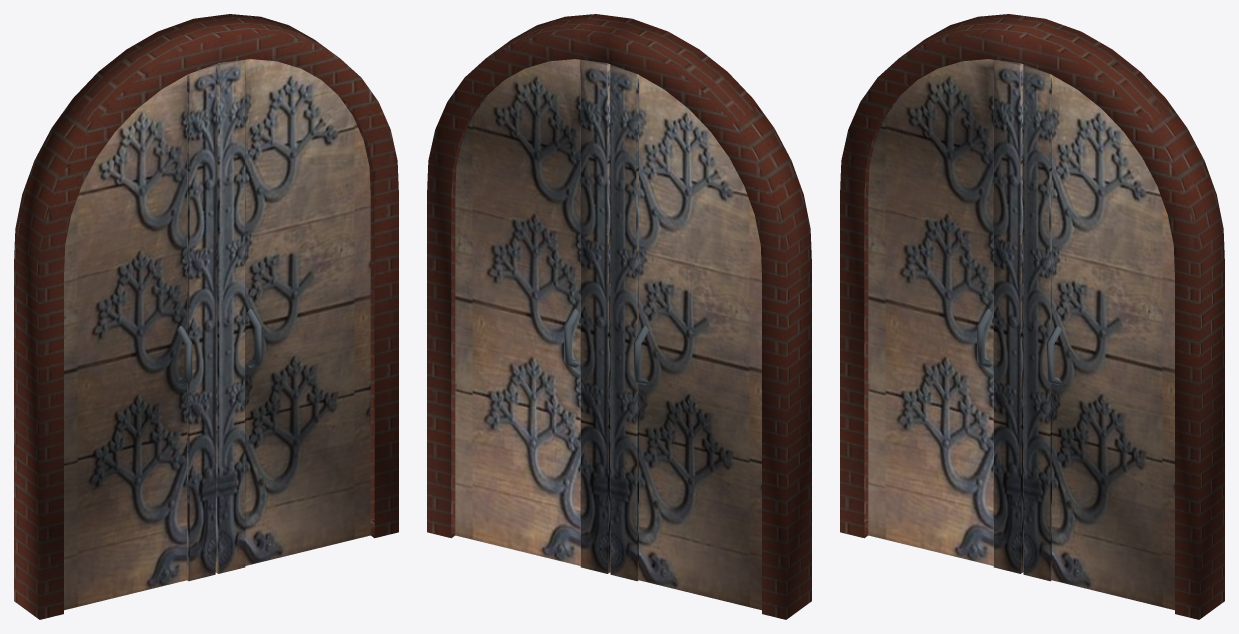
File: door.obj
3 renders of one model, left to right at view 1: azimuth 30°, elevation 25°; view 2: azimuth 150°, elevation 25°; view 3: azimuth 330°, elevation 25°, orthographic.
Parts seen in each view (by area): view 1: l_1, r_1, br; view 2: l_1, r_1, br; view 3: r_1, l_1, br.
Boxes of the visible parts, bbox=[...] form: l_1: bbox=[215, 59, 370, 573]; r_1: bbox=[64, 64, 215, 610]; br: bbox=[14, 14, 398, 619]; l_1: bbox=[455, 59, 610, 573]; r_1: bbox=[610, 64, 761, 610]; br: bbox=[427, 14, 811, 619]; r_1: bbox=[868, 59, 1023, 573]; l_1: bbox=[1023, 64, 1174, 610]; br: bbox=[840, 14, 1224, 619].
Bounding box in the file's own units: 4.72 × 6.77 × 0.8556.
3 materials, 3 textured.
